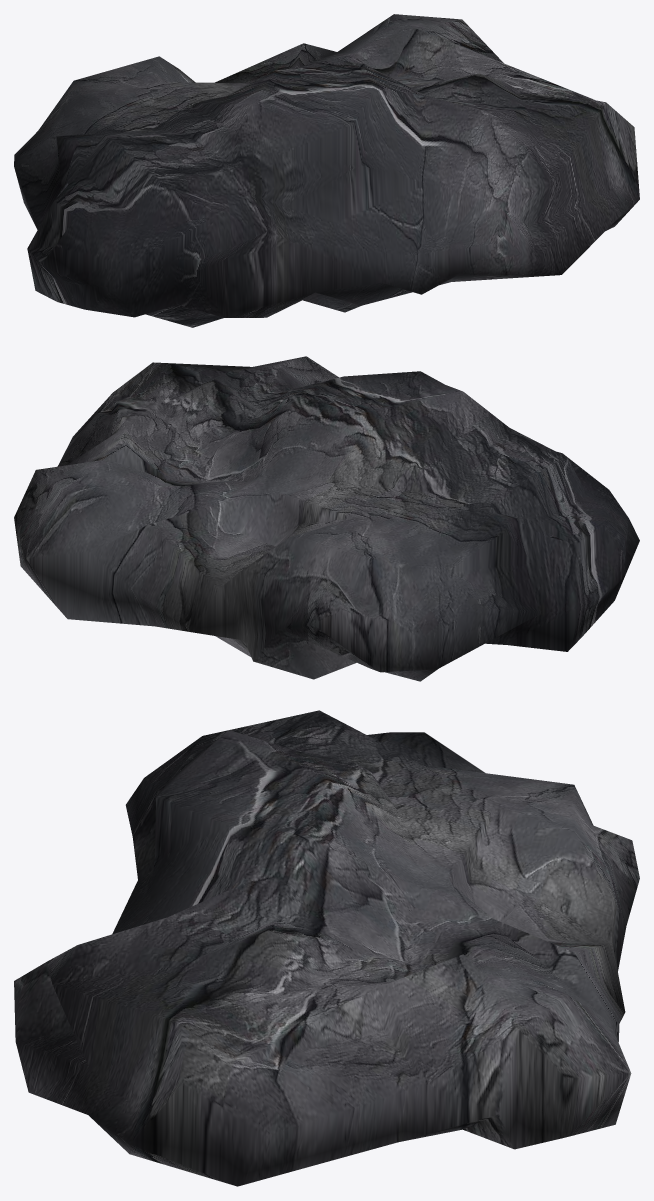
File: RockWall5.fbx
3 views of the same model, one above another, from view 1: azimuth 30°, elevation 25°; view 2: azimuth 150°, elevation 25°; view 3: azimuth 270°, elevation 25° (orthographic). The views are drawn at different scales.
Visible parts, largest first — view 1: Куб.081; view 2: Куб.081; view 3: Куб.081.
Boxes of the visible parts, bbox=[...] form: Куб.081: bbox=[14, 14, 639, 327]; Куб.081: bbox=[14, 356, 639, 681]; Куб.081: bbox=[14, 710, 639, 1186].
Size of the model in its own units: 393 by 149 by 294.
